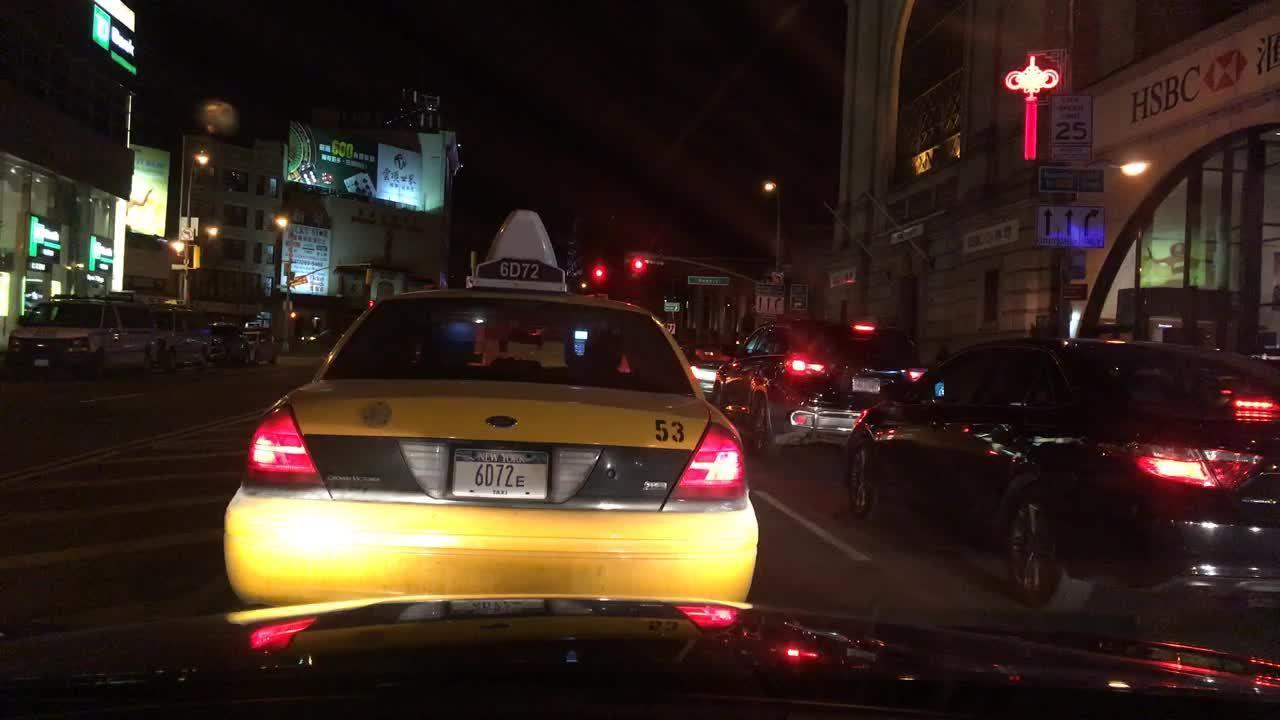ford: (479, 405, 527, 437)
